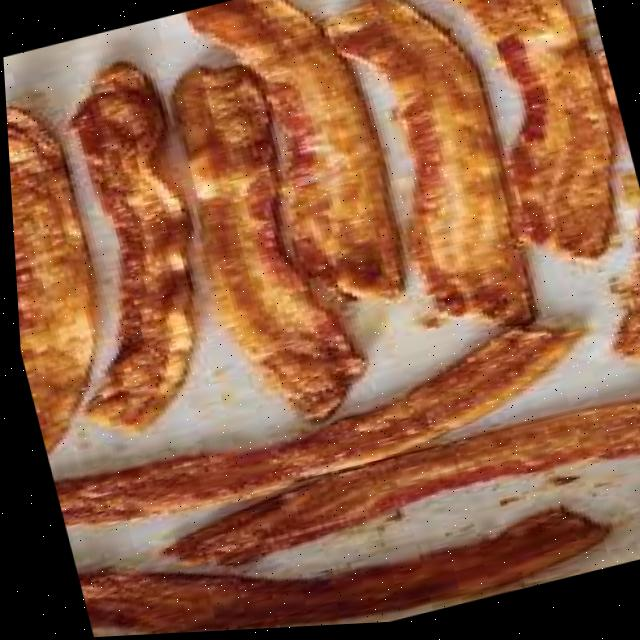Bacon: (51, 335, 576, 524), (155, 409, 640, 567), (326, 0, 529, 330), (170, 68, 355, 423), (71, 513, 600, 636), (186, 0, 398, 303), (67, 66, 190, 432), (443, 0, 609, 264), (5, 109, 91, 451), (607, 219, 640, 366)
